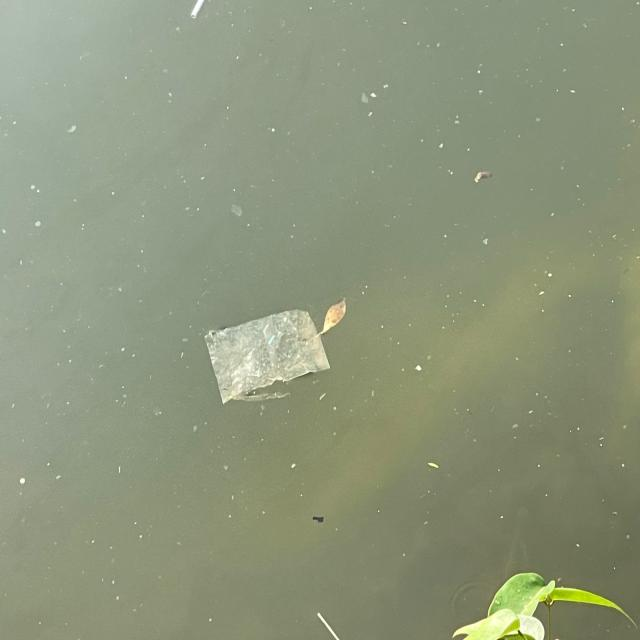Kantong Plastik: (207, 306, 334, 412)
